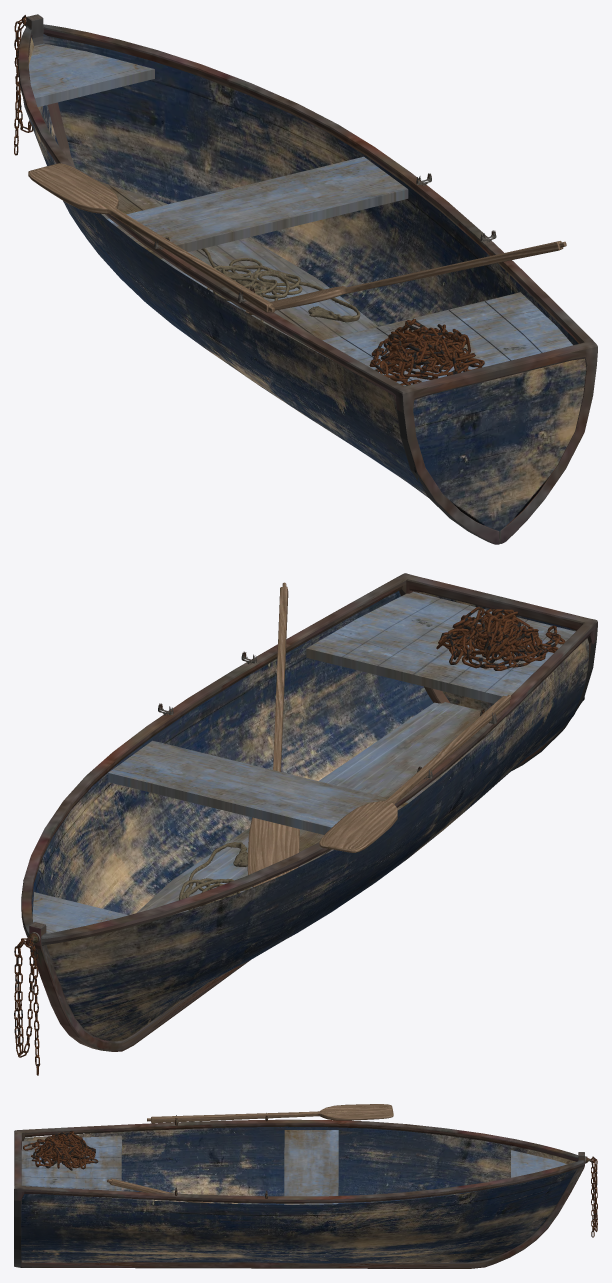
The model's file is boat.glb.
The picture shows the model from 3 angles, top to bottom: view 1: azimuth 30°, elevation 25°; view 2: azimuth 150°, elevation 25°; view 3: azimuth 270°, elevation 25°; orthographic projection. The views are drawn at different scales.
Parts seen in each view (by area): view 1: hull, seats, rail, oars, floor, chain, rope; view 2: hull, seats, rail, floor, oars, chain, rope; view 3: hull, rail, seats, oars, chain.
Part boxes in pixels (x1,y1,x2,y2): hull: [23, 34, 586, 531]; seats: [29, 43, 572, 386]; rail: [18, 14, 597, 544]; oars: [28, 163, 566, 314]; floor: [94, 179, 378, 344]; chain: [14, 16, 484, 385]; rope: [201, 248, 360, 322]; hull: [31, 591, 588, 1041]; seats: [32, 591, 575, 933]; rail: [21, 573, 597, 1051]; floor: [137, 702, 506, 913]; oars: [247, 582, 511, 887]; chain: [14, 606, 565, 1075]; rope: [179, 842, 251, 910]; hull: [21, 1126, 576, 1263]; rail: [14, 1119, 584, 1268]; seats: [21, 1130, 567, 1204]; oars: [107, 1104, 393, 1203]; chain: [23, 1131, 597, 1237].
Bounding box in the file's own units: 1609 × 1062 × 4330.
8 materials, 8 textured.
